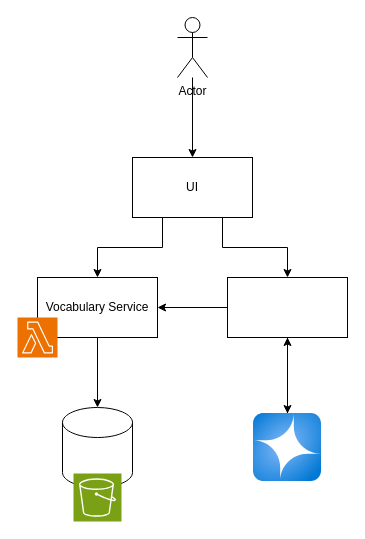
Some shapes in this 365 by 539 pixel diagram are drawn without their labels. Each missing label, with the centre of its shape:
Practice Service: (x=287, y=307)
Vocabulary: (x=97, y=447)
